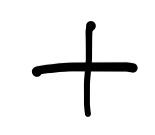plus: (32, 19, 139, 117)
